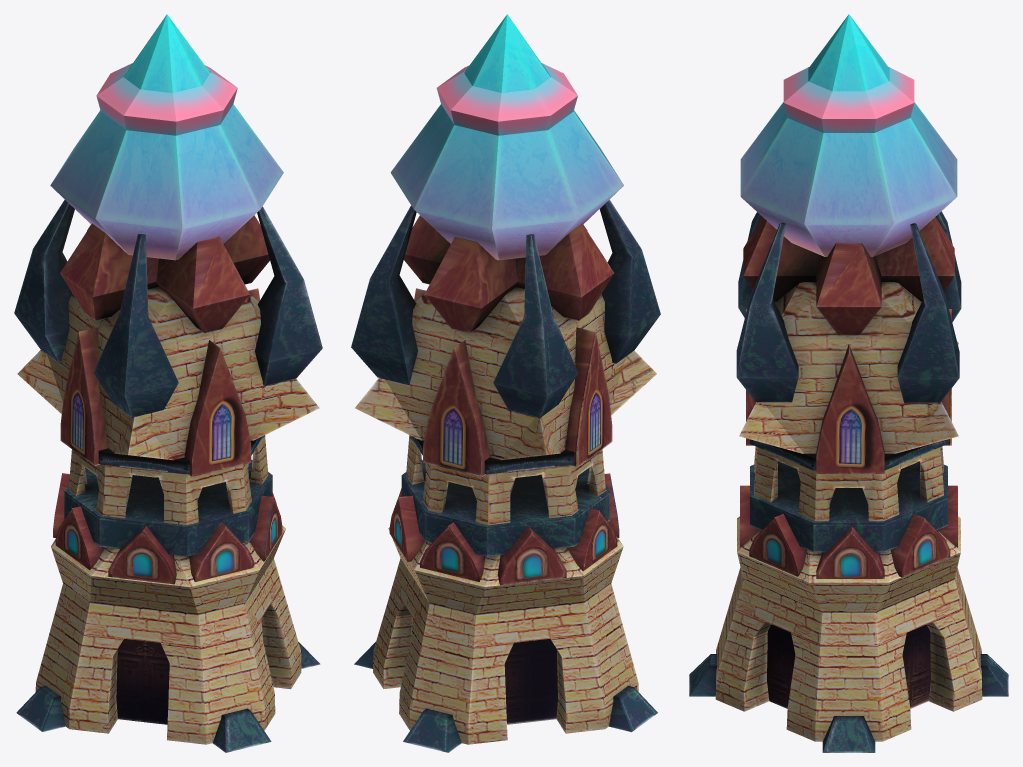
File: MagicTowerLod3.fbx
3 views of the same model, side by side, from view 1: azimuth 30°, elevation 25°; view 2: azimuth 150°, elevation 25°; view 3: azimuth 270°, elevation 25° (orthographic).
Visible parts, largest first — view 1: MagicTowerLod3; view 2: MagicTowerLod3; view 3: MagicTowerLod3.
Part boxes in pixels (x1=…): MagicTowerLod3: x1=14, y1=14, x2=322, y2=752; MagicTowerLod3: x1=351, y1=14, x2=660, y2=752; MagicTowerLod3: x1=689, y1=14, x2=1008, y2=752.
Bounding box in the file's own units: 4.56 × 10.57 × 4.56.
1 material, 1 textured.
